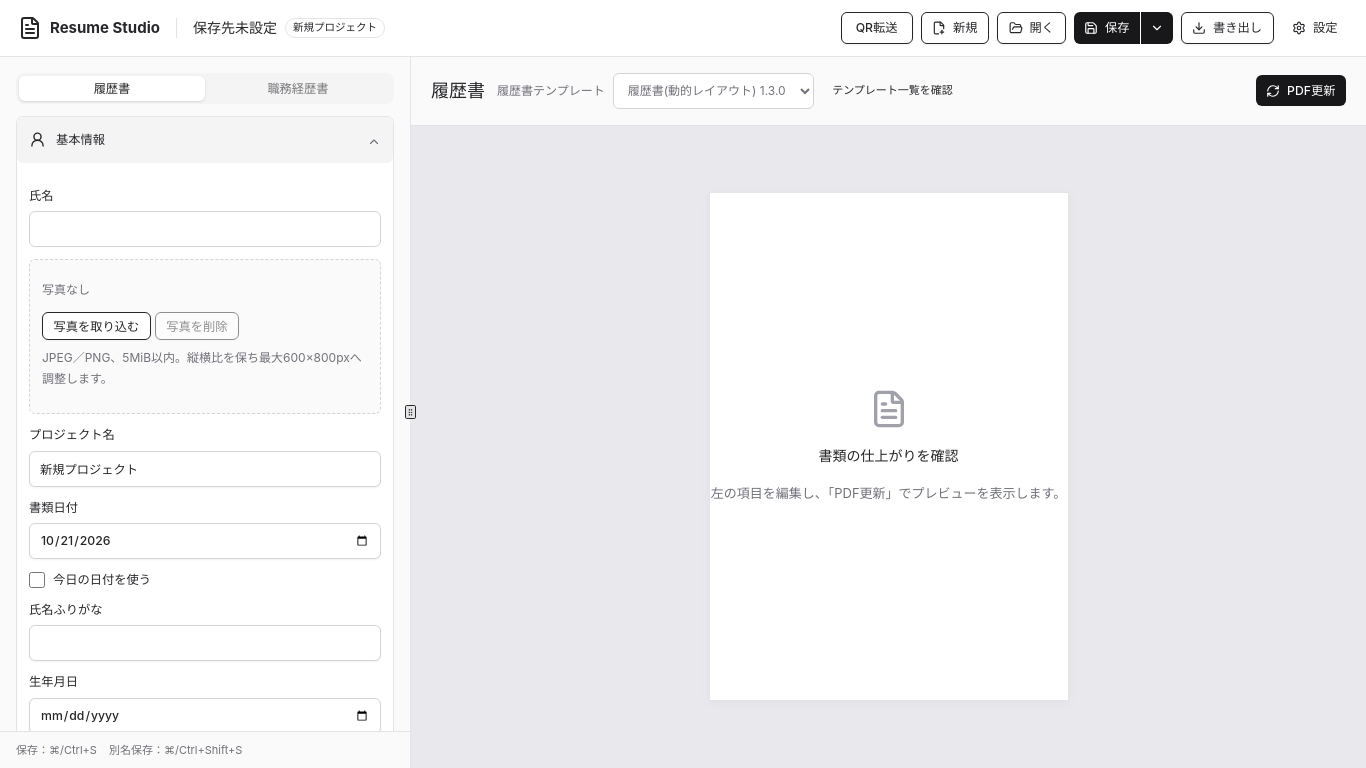
it: IPC失敗を表示しても書類を選択できる
Click the button "設定": [1315, 28] box [1282,12,1348,44]
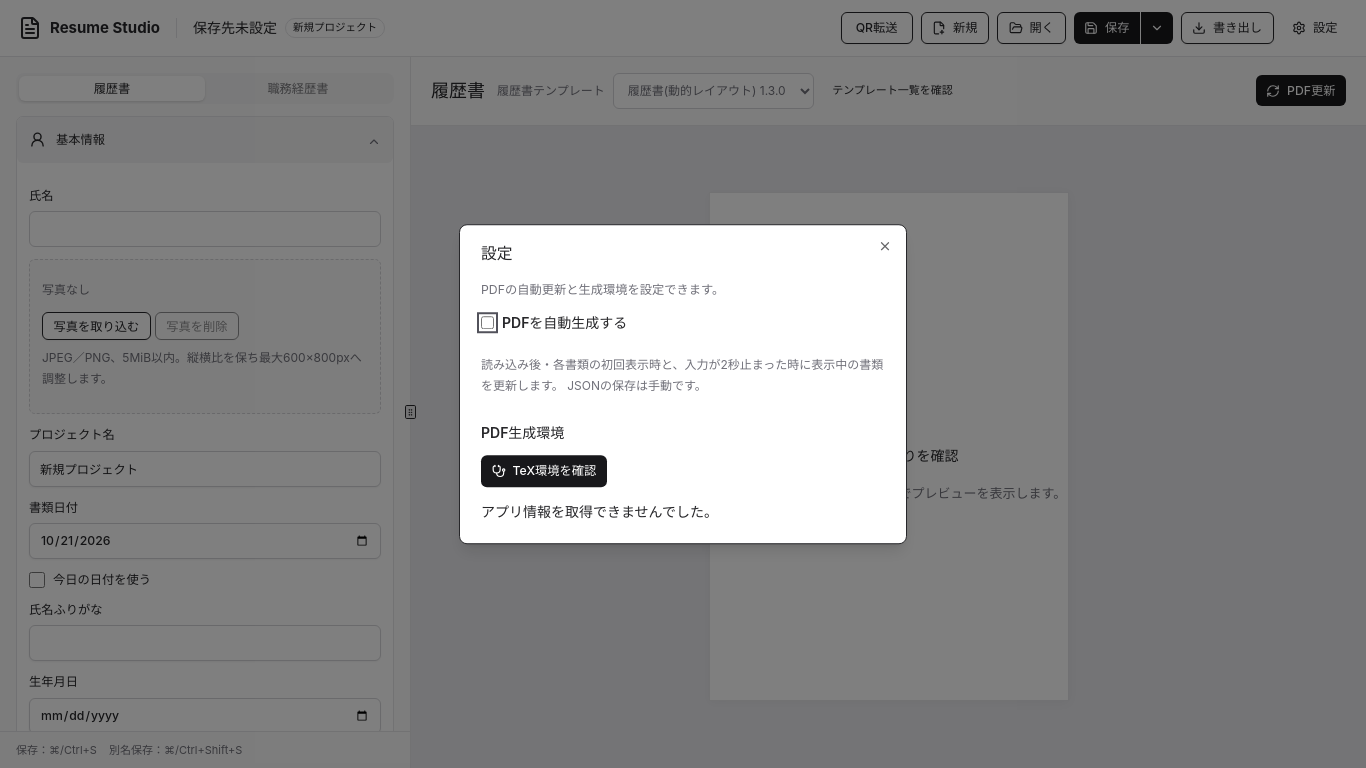
Expected: the text "アプリ情報を取得できませんでした。" is shown, [481,503,718,520]
Click the button named "ダイアログを閉じる": [885, 246] box [878,239,892,253]
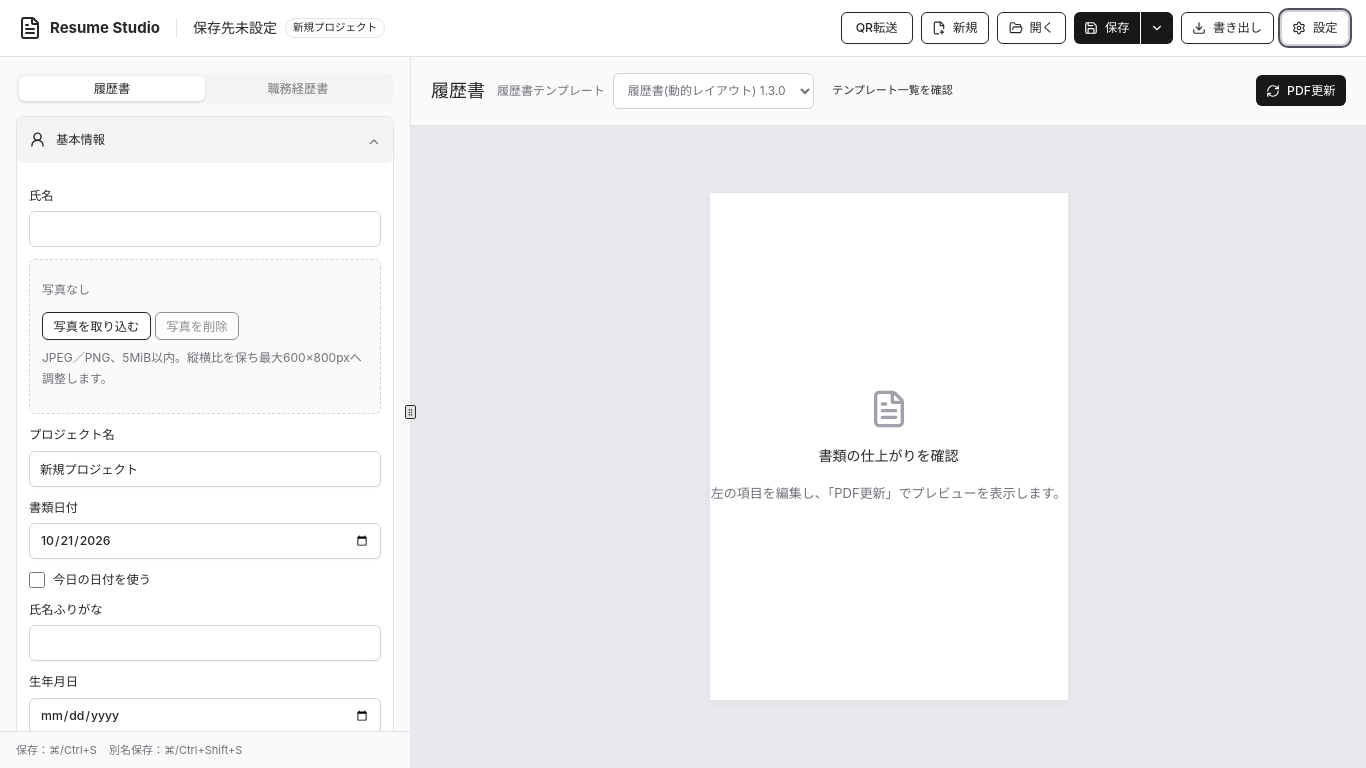
Click the tab "職務経歴書": [298, 88] box [205,76,391,100]
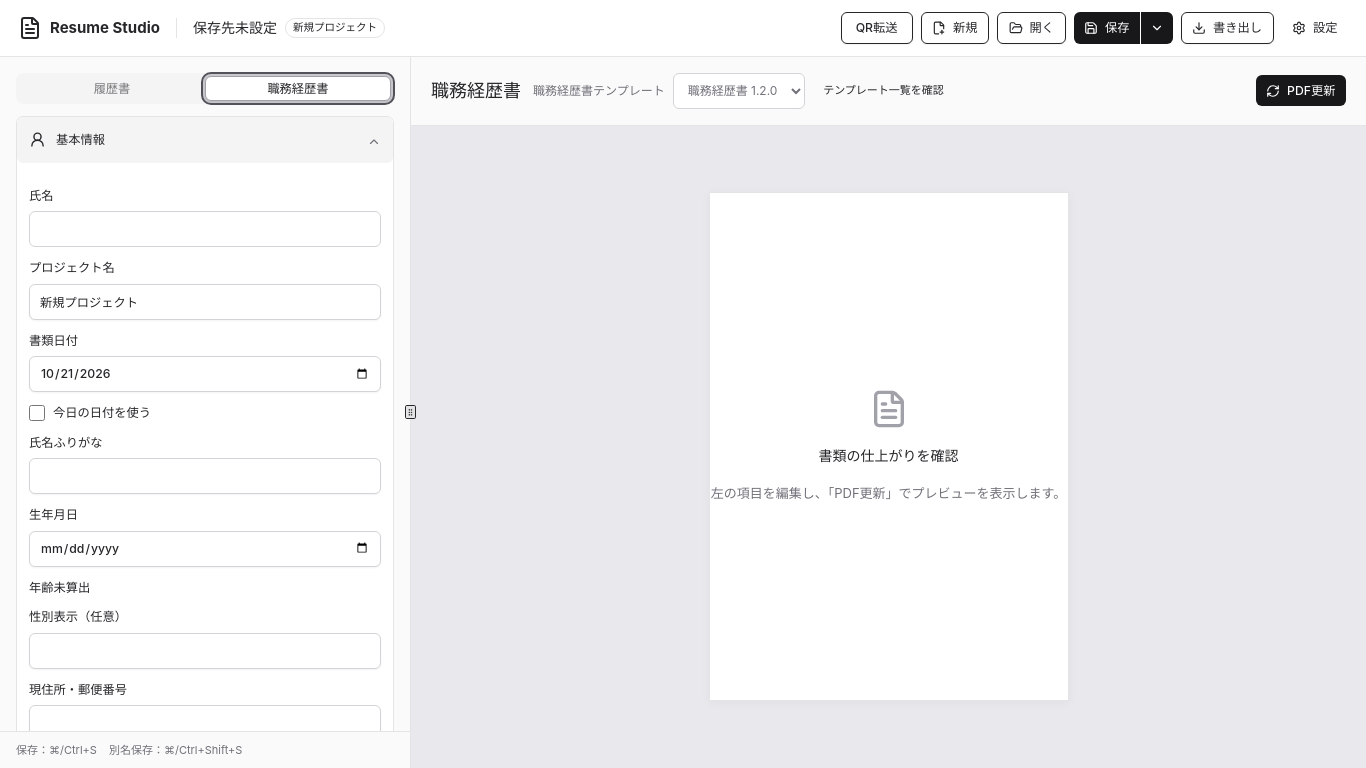
Expected: the heading "職務経歴書" is shown, [431,77,521,104]
